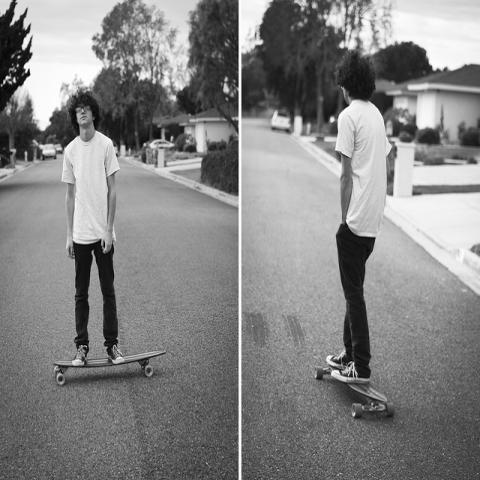car: (270, 108, 293, 131), (149, 140, 176, 150), (41, 144, 57, 160), (111, 137, 118, 156), (54, 144, 63, 154)
